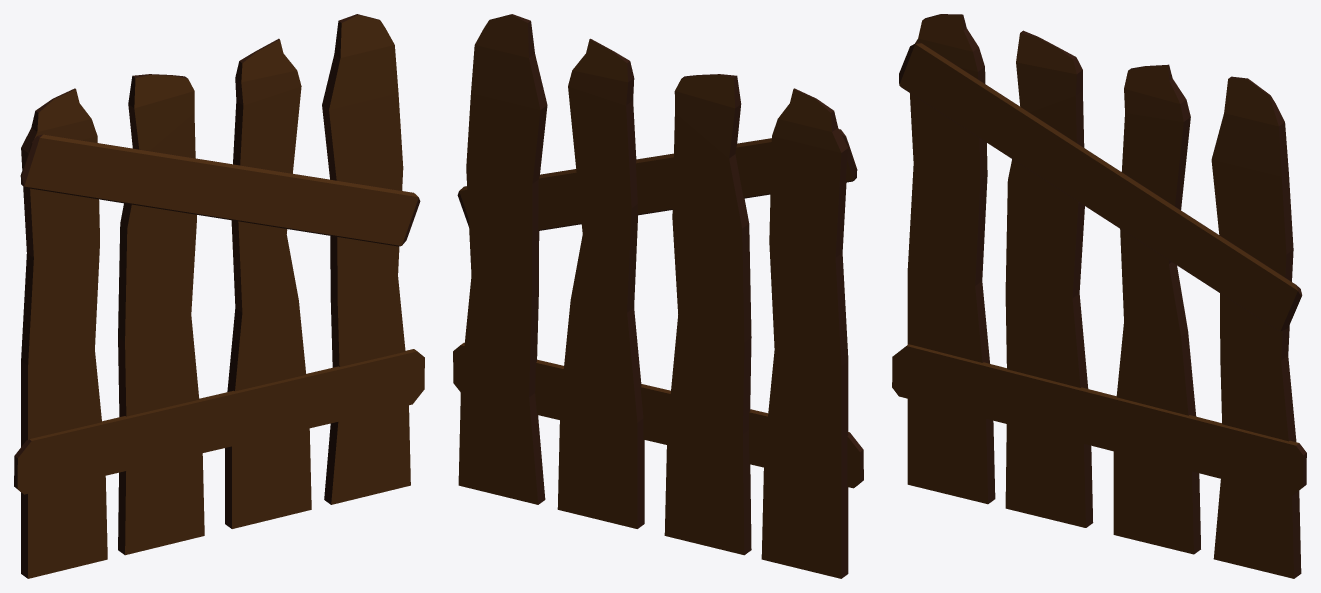
Rendered from fence3.fbx.
3 views of the same model, side by side, from view 1: azimuth 30°, elevation 25°; view 2: azimuth 150°, elevation 25°; view 3: azimuth 330°, elevation 25° (orthographic).
Parts seen in each view (by area): view 1: wooden_fence; view 2: wooden_fence; view 3: wooden_fence.
Boxes of the visible parts, box(x1,y1,x2,y2) form: wooden_fence: box(14, 14, 424, 578); wooden_fence: box(453, 14, 863, 578); wooden_fence: box(892, 14, 1306, 578).
Size of the model in its own units: 2 by 2.26 by 0.0811.
